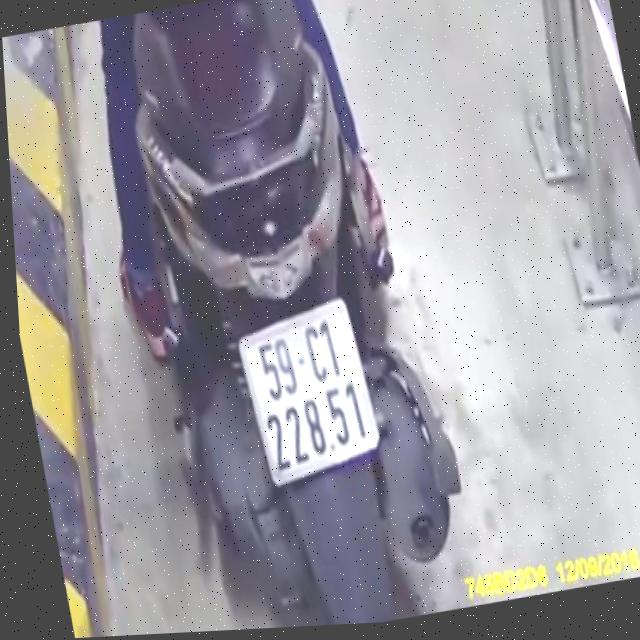motorcycle: (75, 0, 513, 636)
plate: (223, 288, 389, 486)
